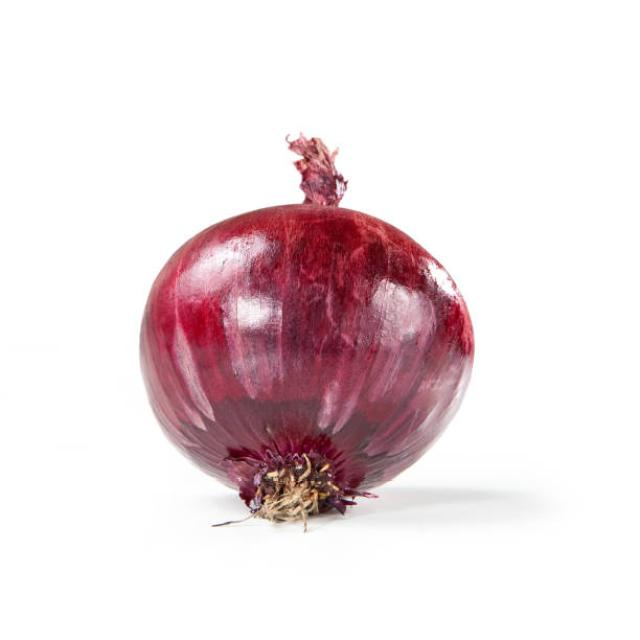onion: (135, 193, 478, 537)
